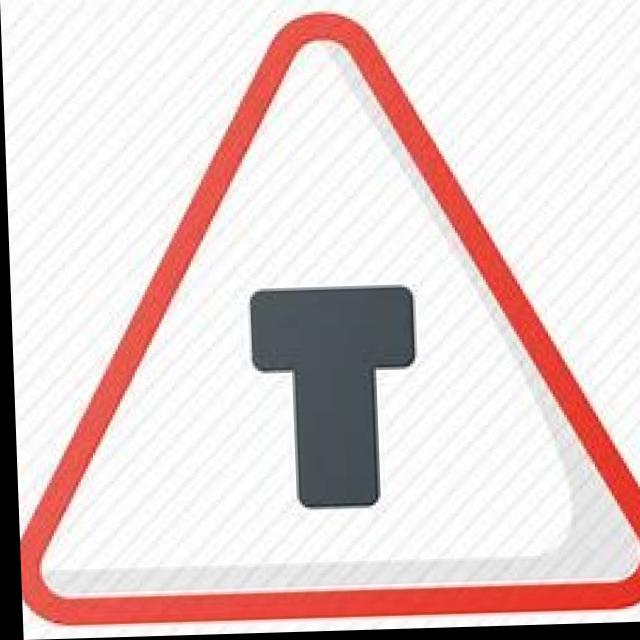T_INTERSECTION: (1, 3, 640, 640)
